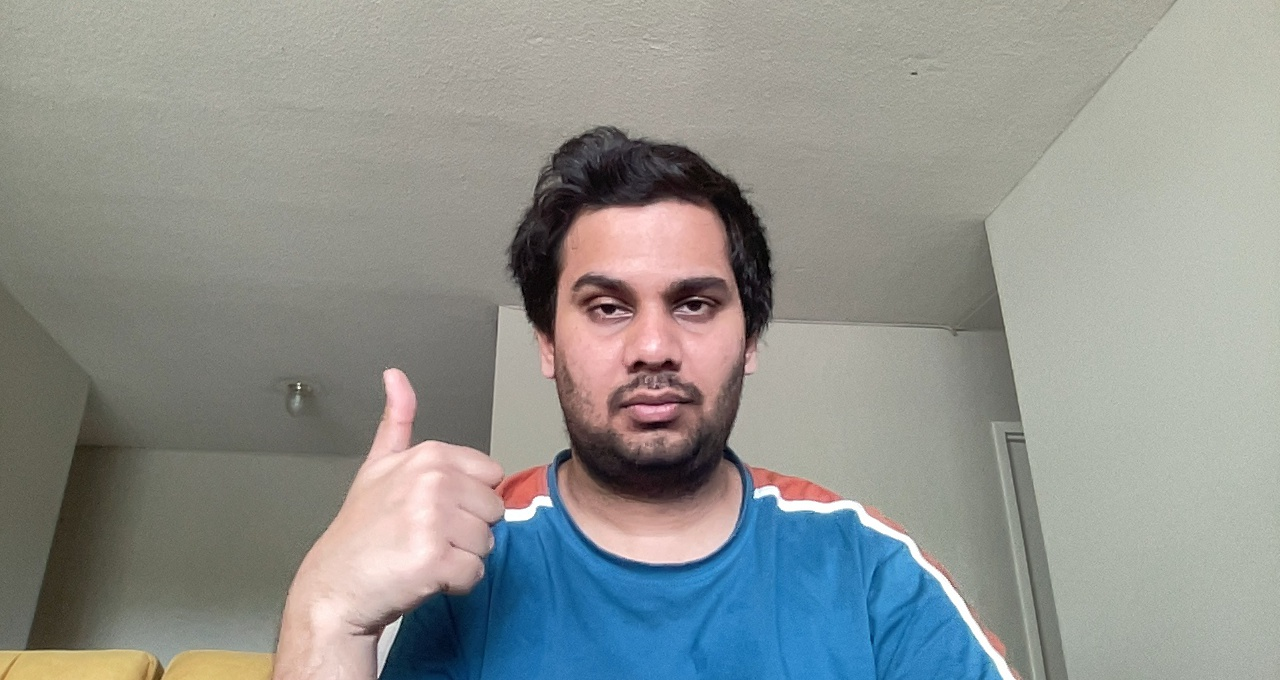thumbsup: (318, 364, 509, 608)
